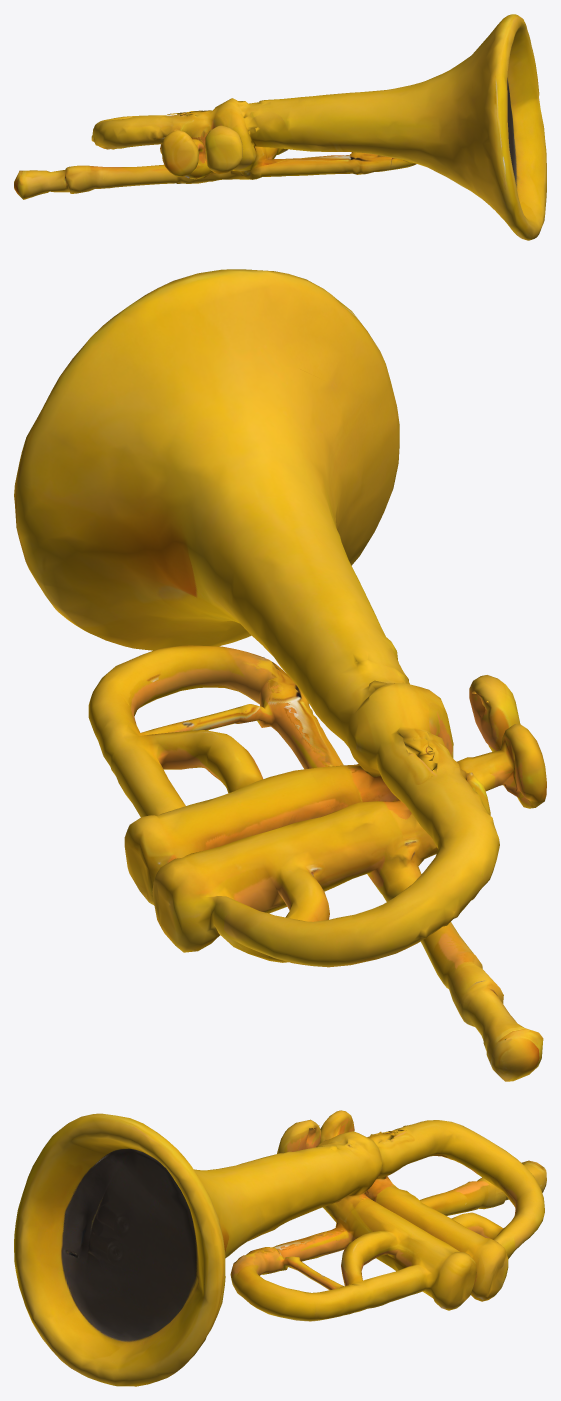
Rendered from zinc.fbx.
3 views of the same model, one above another, from view 1: azimuth 30°, elevation 25°; view 2: azimuth 150°, elevation 25°; view 3: azimuth 270°, elevation 25° (orthographic). The views are drawn at different scales.
Visible parts, largest first — view 1: Mesh_0.017; view 2: Mesh_0.017; view 3: Mesh_0.017.
Part boxes in pixels (box(x1,y1,x2,y2)): Mesh_0.017: box(14, 14, 546, 240); Mesh_0.017: box(14, 269, 546, 1081); Mesh_0.017: box(14, 1110, 546, 1386).
Bounding box in the file's own units: 0.5063 × 0.2673 × 0.4815.
Materials: 1 (1 with a texture image).
